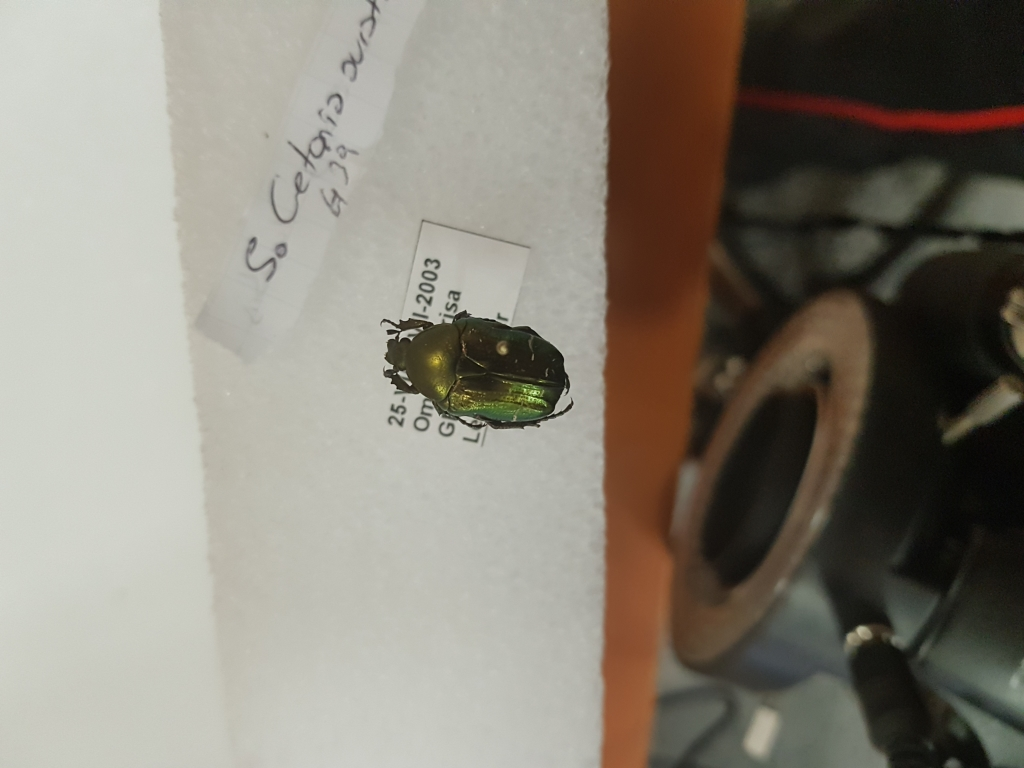Cetonia_aurata: (380, 312, 576, 432)
